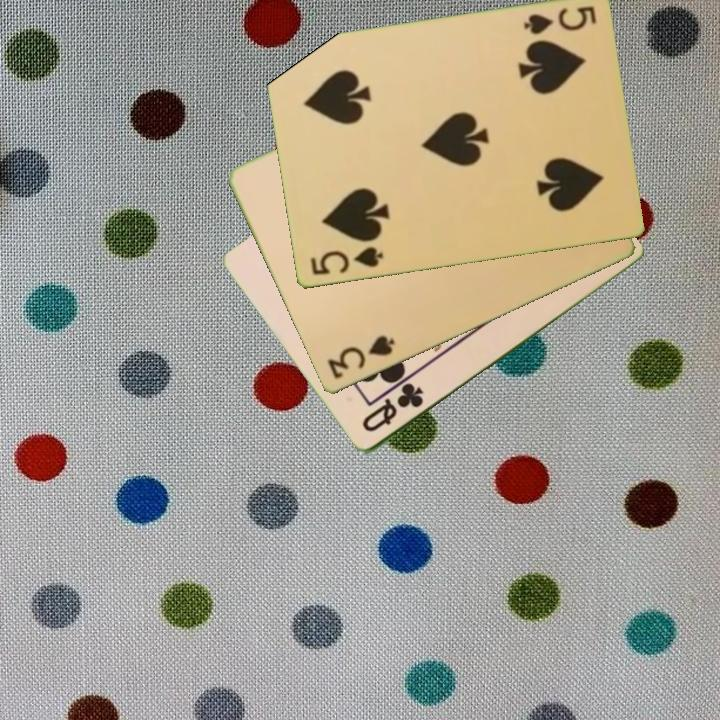3s: (323, 332, 398, 383)
5s: (306, 243, 386, 279), (519, 3, 599, 38)
Qc: (358, 379, 427, 436)
